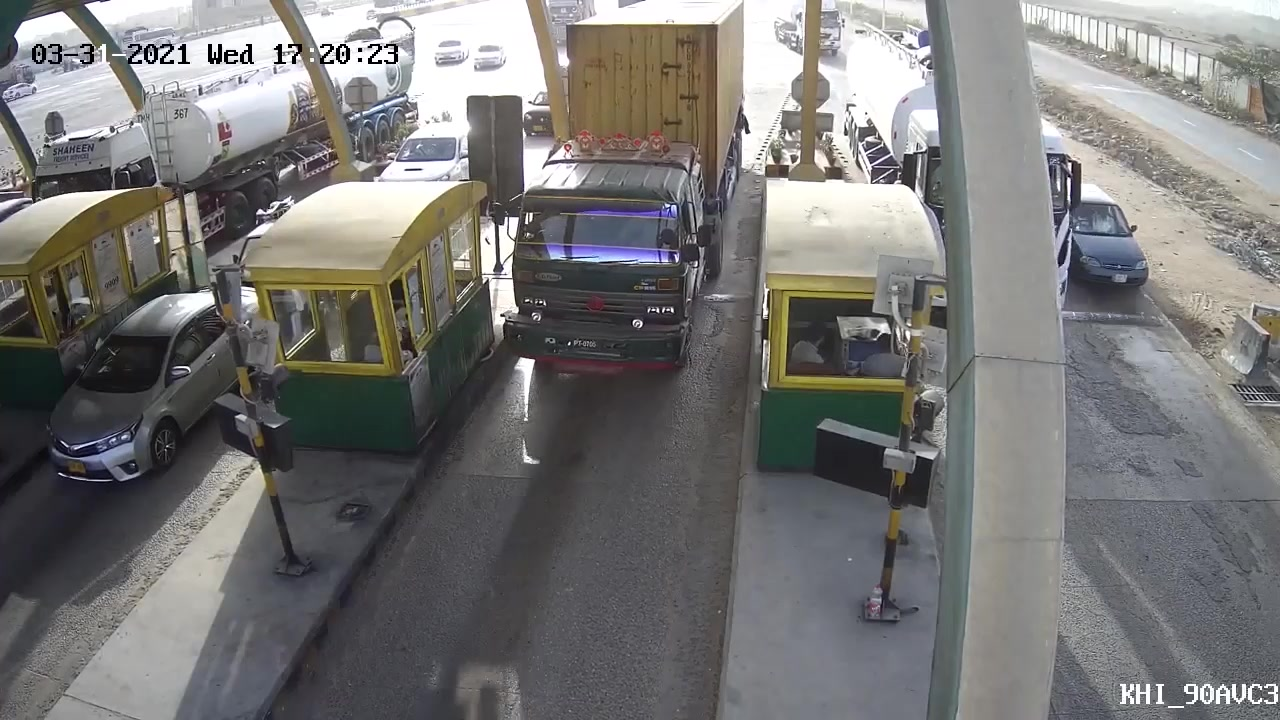F6: (507, 1, 755, 382)
